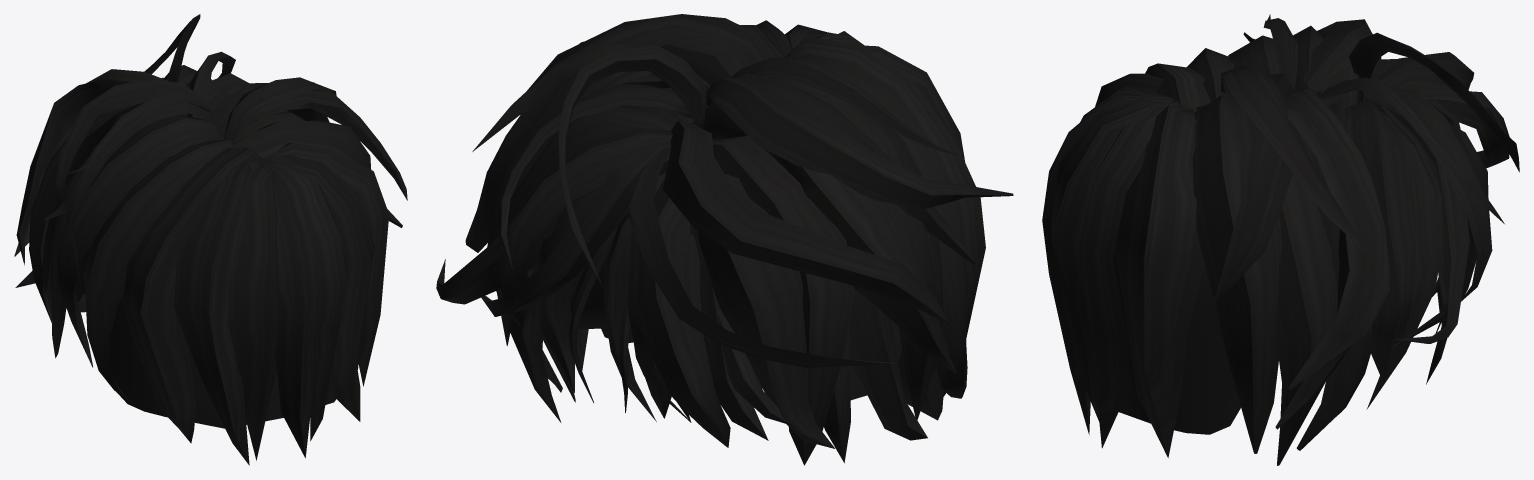
The picture shows the model from 3 angles, left to right: view 1: azimuth 30°, elevation 25°; view 2: azimuth 150°, elevation 25°; view 3: azimuth 270°, elevation 25°; orthographic projection. The views are drawn at different scales.
Parts seen in each view (by area): view 1: geometry_0; view 2: geometry_0; view 3: geometry_0.
Boxes of the visible parts, left/top/right/bottom form: geometry_0: left=14, top=14, right=407, bottom=465; geometry_0: left=436, top=14, right=1013, bottom=465; geometry_0: left=1042, top=14, right=1519, bottom=465.
Bounding box in the file's own units: 1.87 × 1.61 × 1.71.
Materials: 1 (1 with a texture image).
